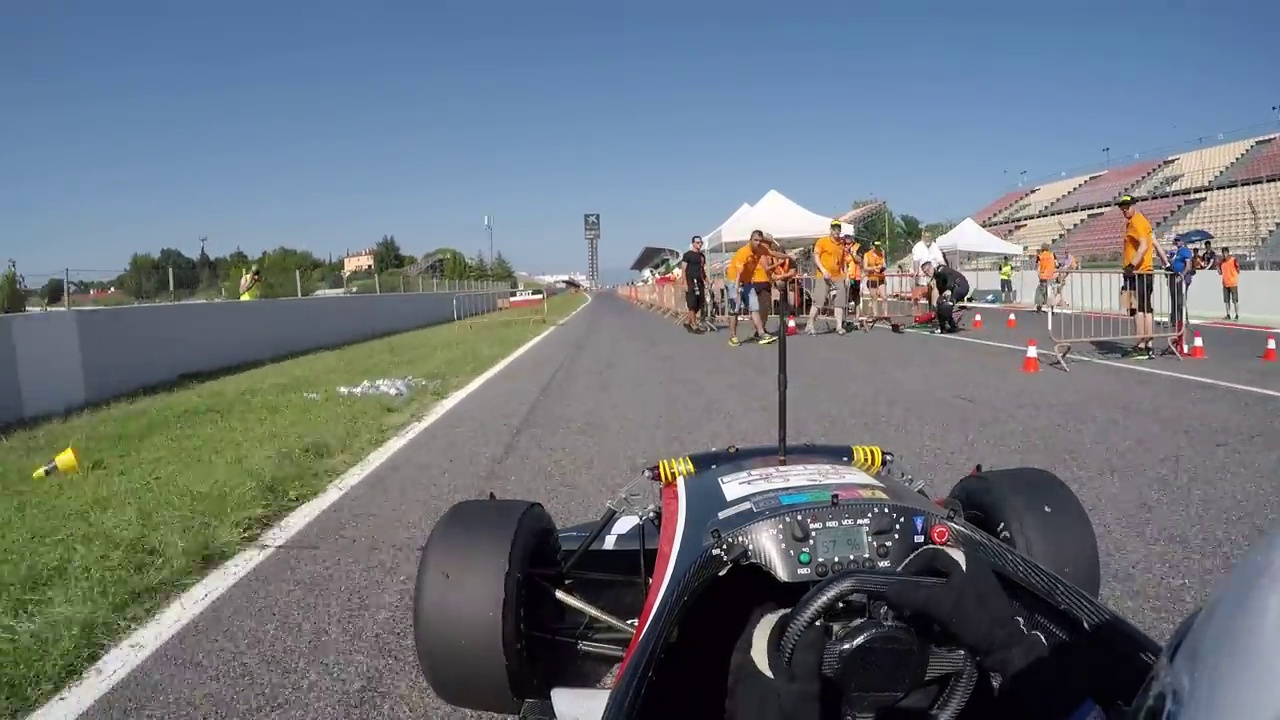Cone: (1017, 336, 1045, 373), (1258, 329, 1280, 362), (1189, 329, 1209, 361)
